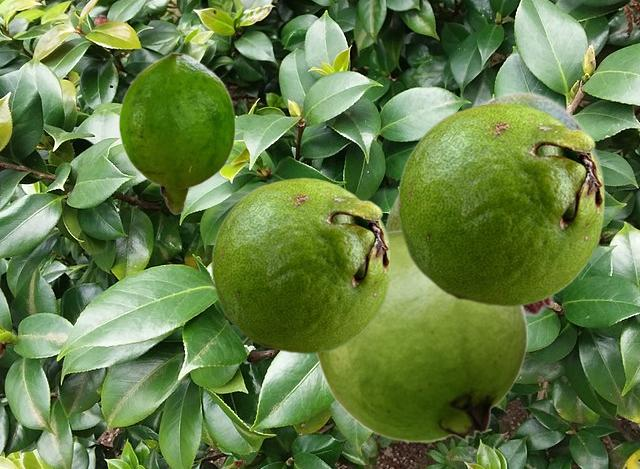guava: (315, 229, 527, 442), (397, 102, 604, 306), (211, 177, 390, 353), (477, 90, 604, 317), (118, 52, 235, 214)
